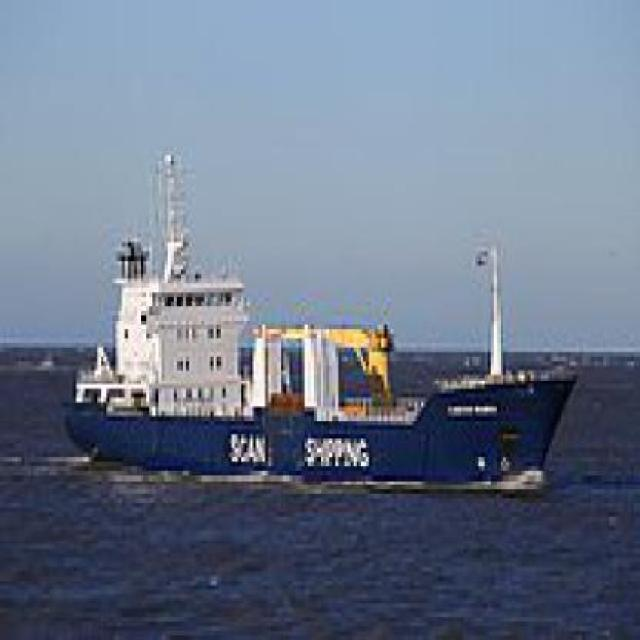container: (56, 124, 593, 504)
